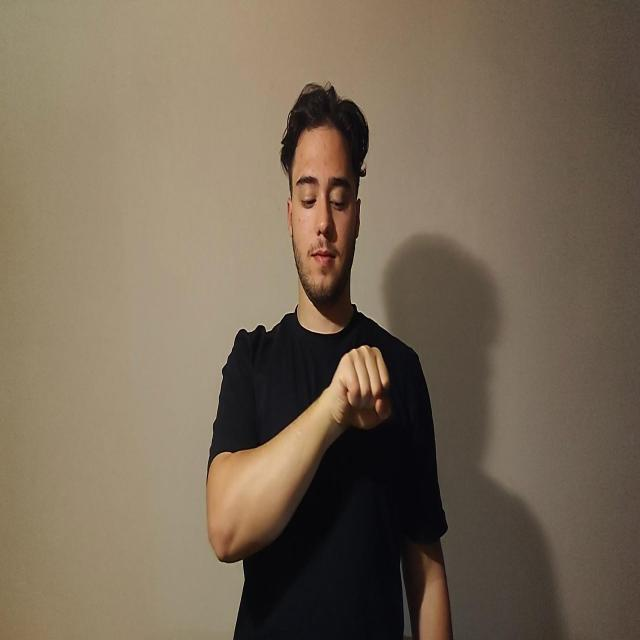yes: (329, 343, 392, 432)
